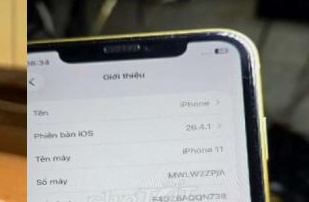scratch: (82, 24, 258, 53), (247, 90, 264, 164), (238, 48, 261, 88)
